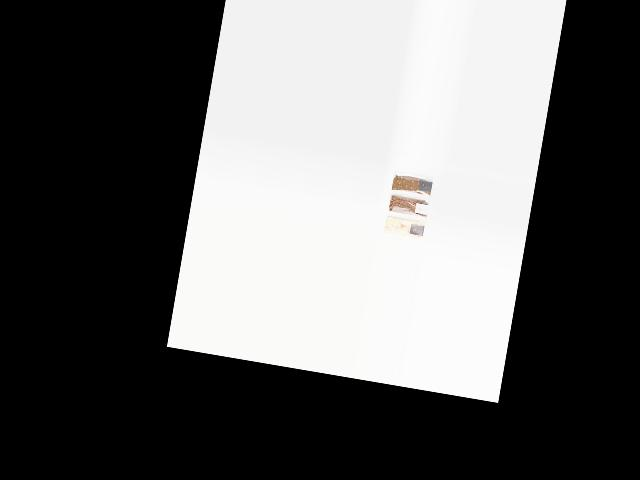chocolate: (389, 170, 433, 195)
